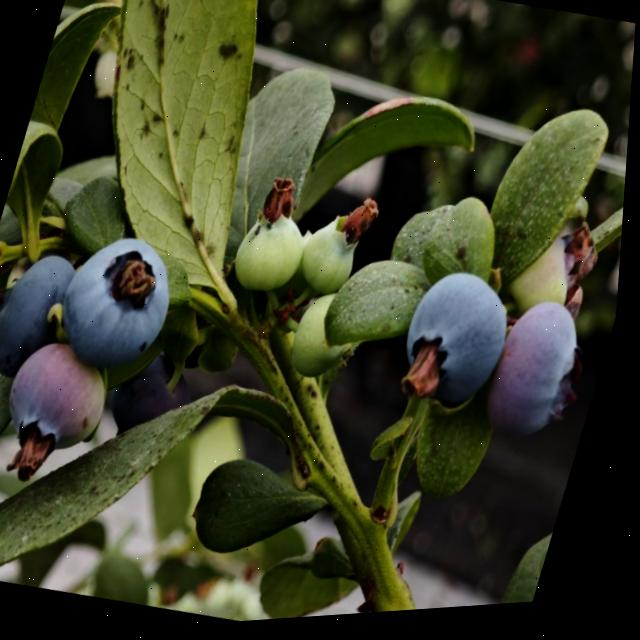RipeBlueBerry: (48, 223, 195, 384), (391, 265, 530, 425), (0, 239, 85, 391)
Semi-RipeBlueBerry: (480, 296, 604, 459), (0, 332, 128, 466)
UnripeBlueBerry: (503, 223, 605, 331), (224, 203, 313, 307), (289, 293, 372, 393), (295, 211, 371, 307)
